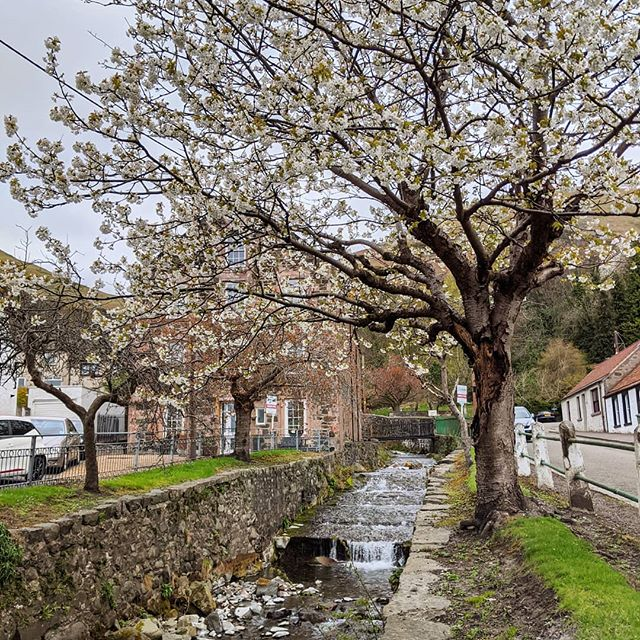building: (159, 365, 357, 447), (560, 330, 640, 519)
river: (101, 448, 468, 640)
tree: (121, 1, 610, 473), (1, 260, 226, 493)
